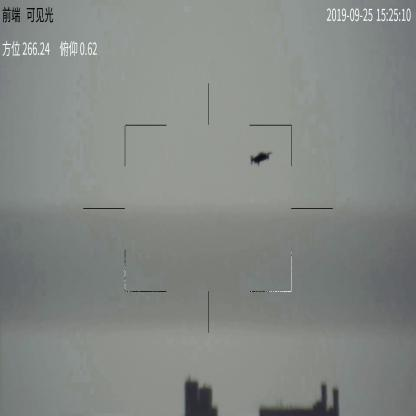uav: (251, 150, 275, 168)
